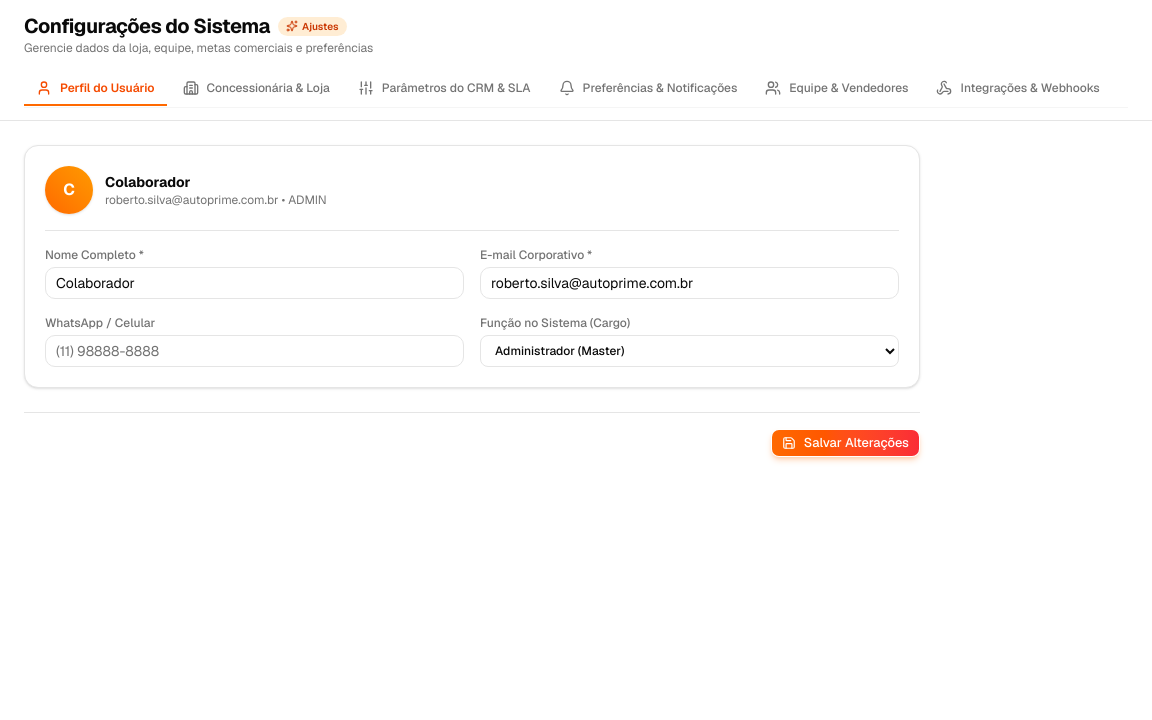
[IT-15] Gestão de Equipe & Controle de Capacidade Multi-Tenant › [IT-15.1] Deve renderizar a aba de equipe com a barra de ocupação de vagas do plano
Click the tab "Equipe & Vendedores". click: (837, 89)
box: [753,72,920,106]
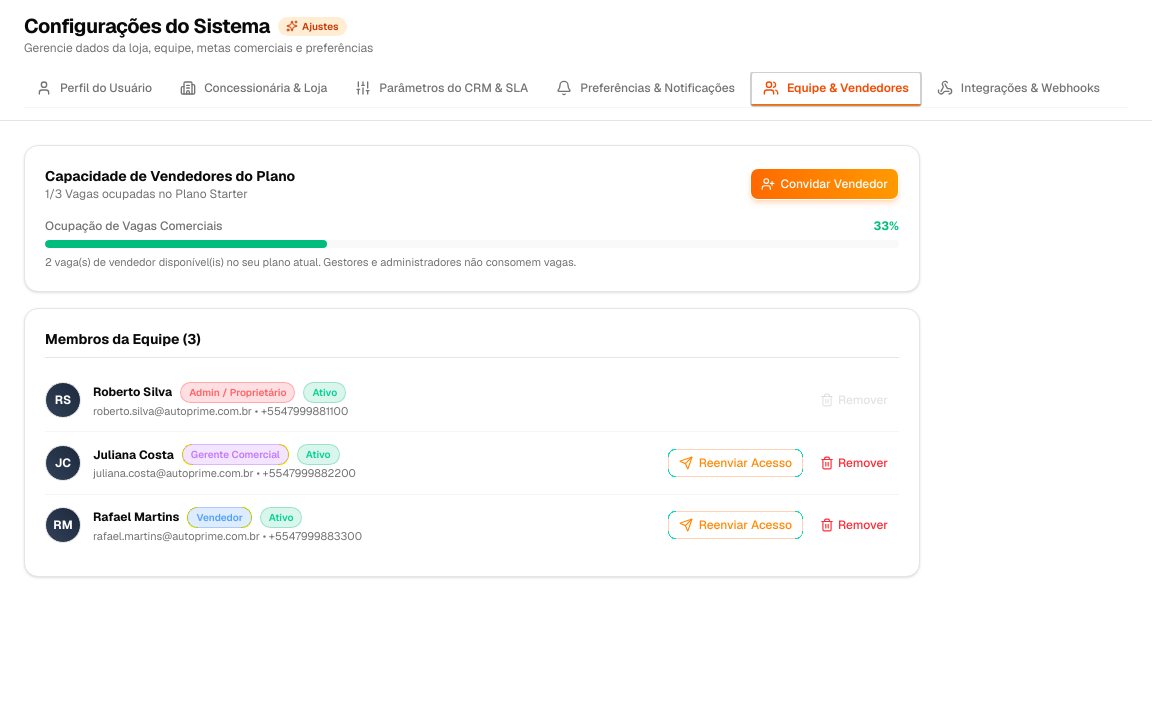
Expected: the heading "Capacidade de Vendedores do Plano" is shown, [45,166,295,186]
Expected: the text "1/3 Vagas ocupadas no Plano Starter" is shown, [45,186,248,202]
Expected: the progress indicator is shown, [45,240,899,248]
